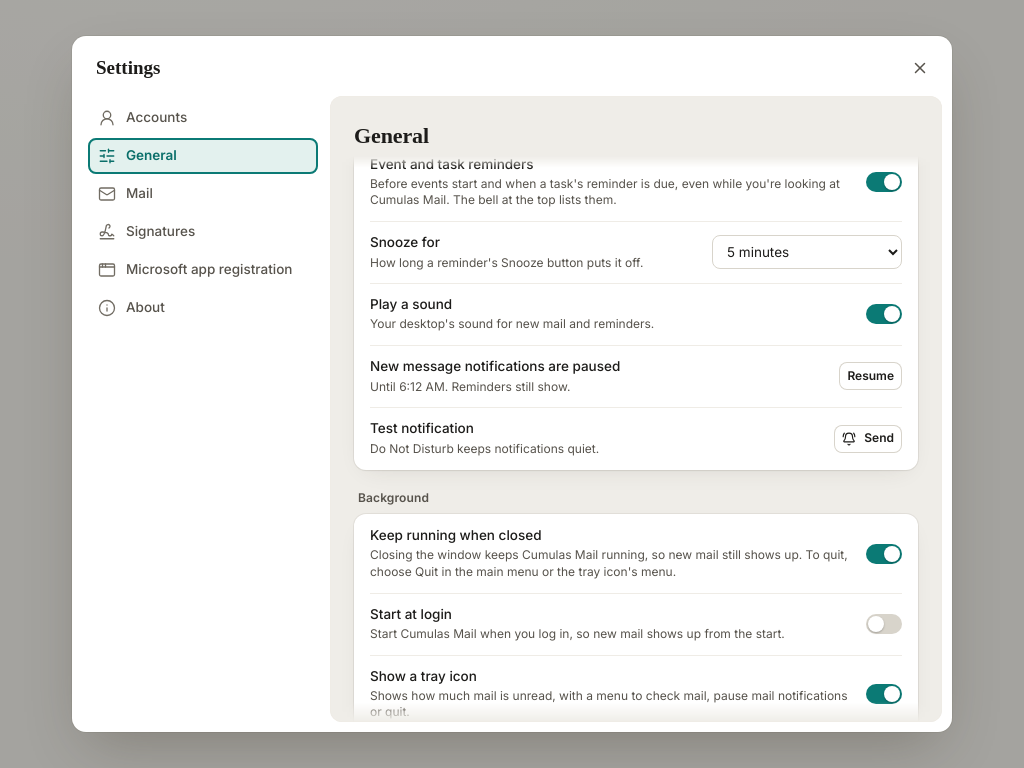
Test: Notifications › says when new message notifications are paused
(page scrolled)
Click the button with aria-label "Send a test notification" at (868, 438), box [834,424,902,452]
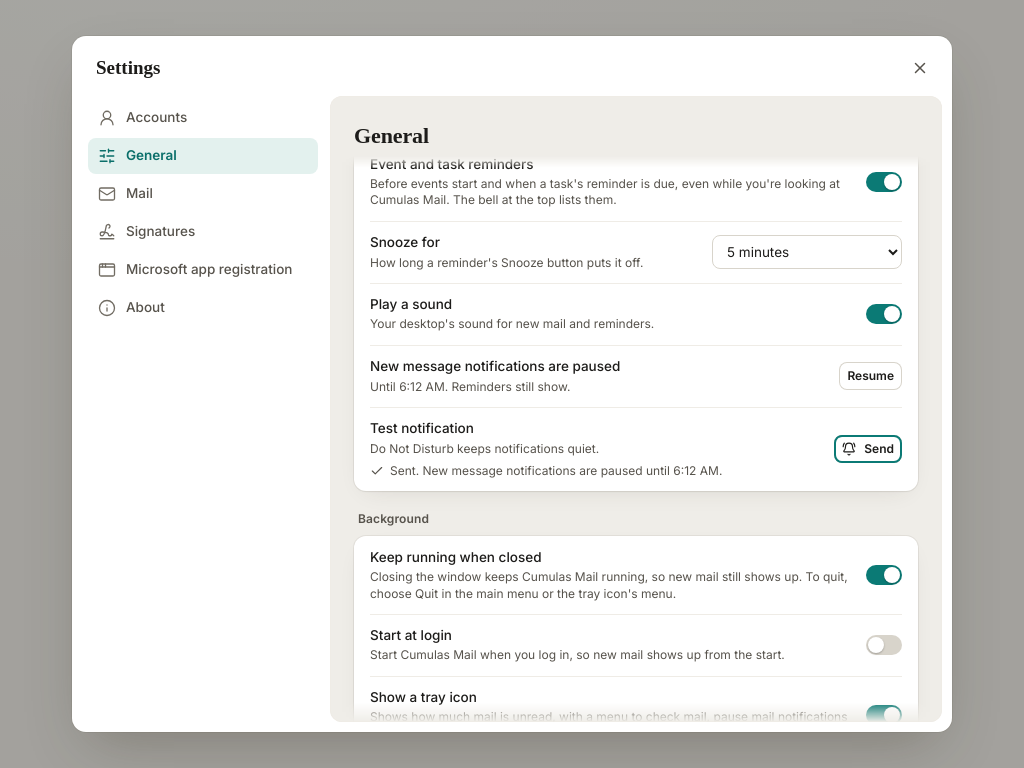
Now the message reads "Sent. New message notifications are paused until 6:12 AM.", box [390,463,722,478]
